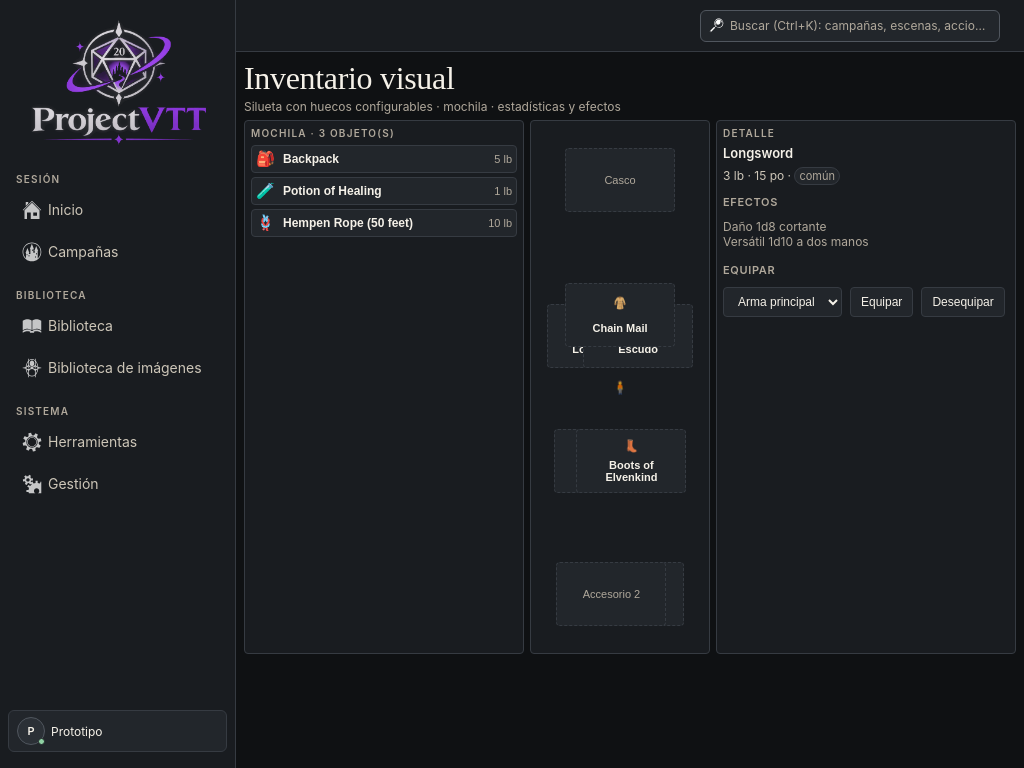
Prototipo inventario visual (PMB-6.3) › equipa un objeto de la mochila en un hueco libre
Click the button "🧪 Potion of Healing 1 lb": (384, 191) [251,177,517,205]
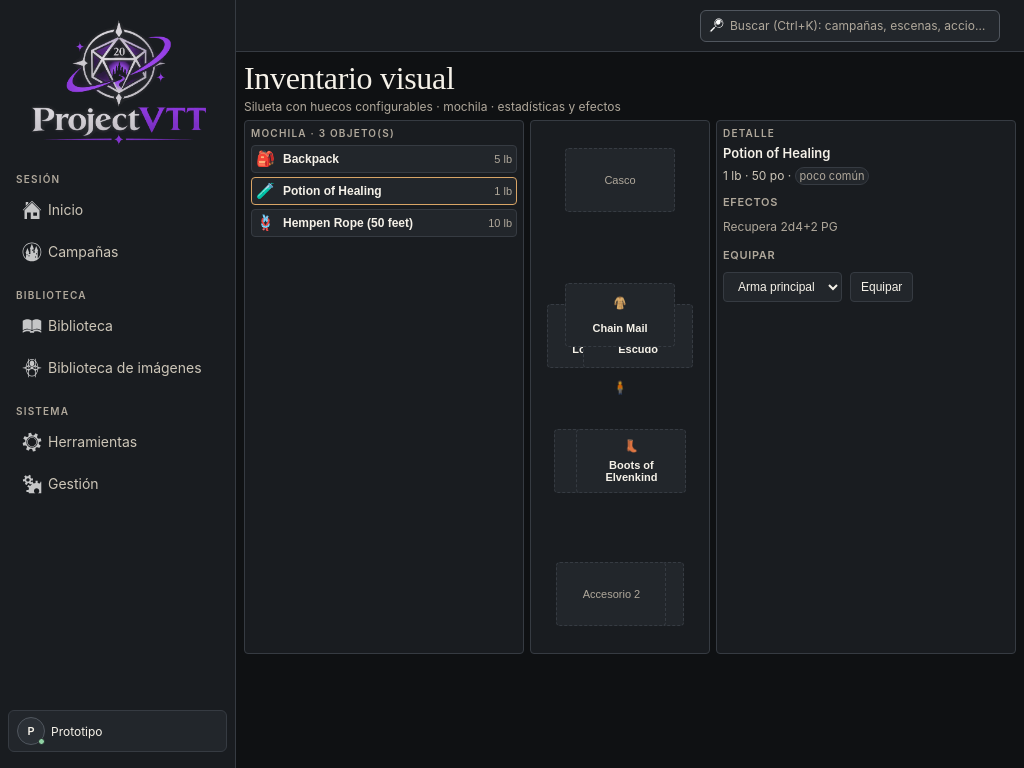
Select "Casco" in the dropdown named "Hueco": (782, 287) [723,272,842,302]
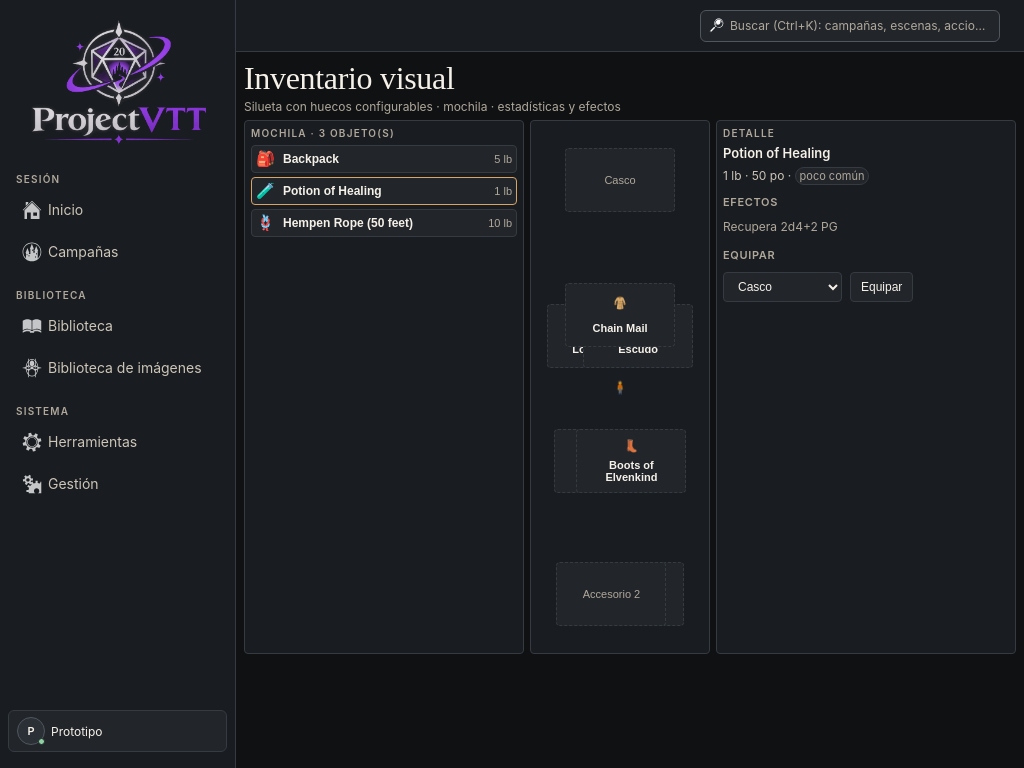
Click the button "Equipar": (882, 287) [850,272,913,302]
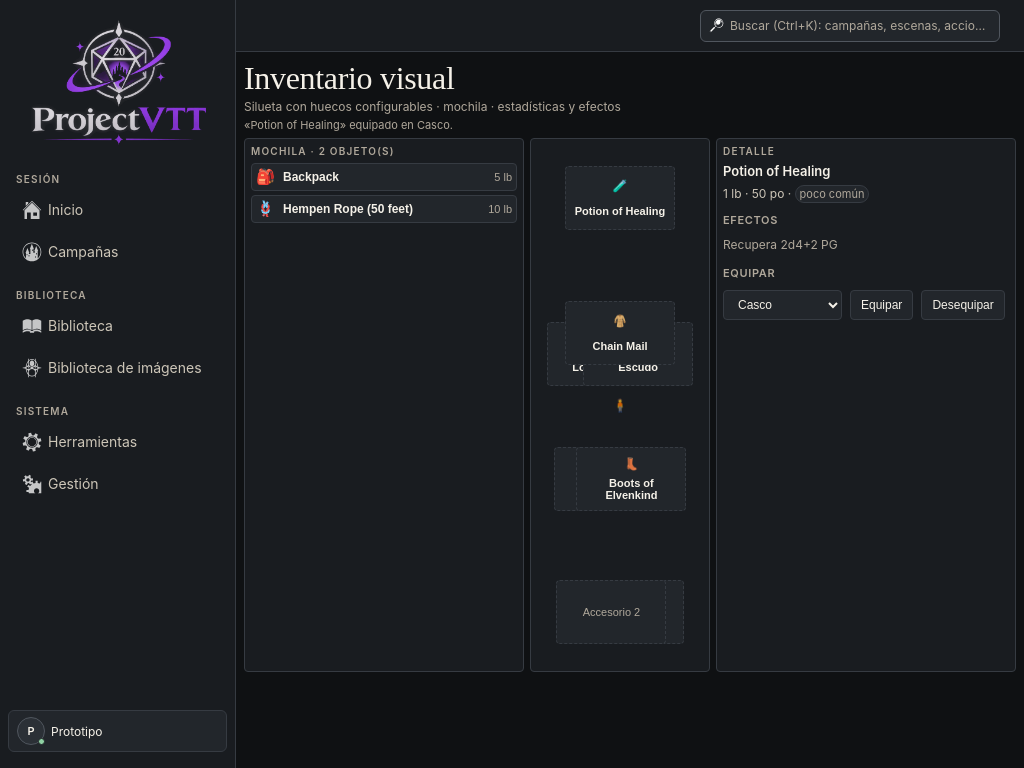
Expected: the message shows "equipado en Casco", [244,118,453,132]
Expected: the button with aria-label "Casco: Potion of Healing" is shown, [565,166,675,230]
Expected: the heading "Mochila · 2 objeto(s)" is shown, [251,145,395,157]
